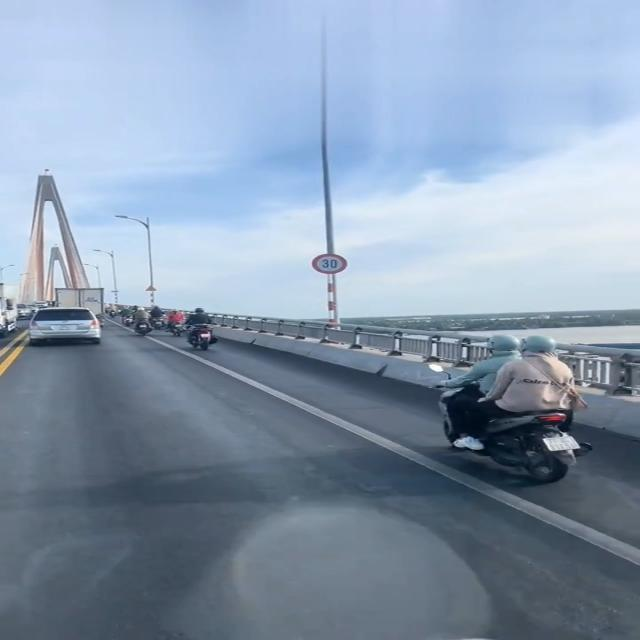127-toc-do-toi-da-30: (312, 254, 348, 274)
